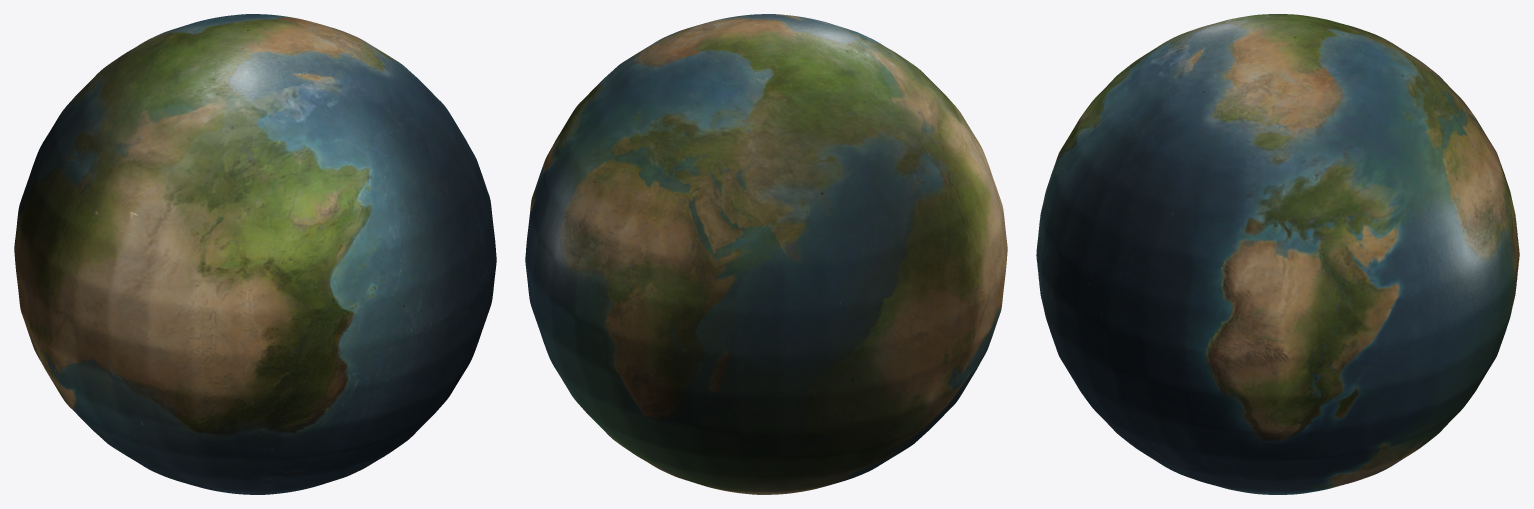
Rendered from yellow-earth.glb.
3 renders of one model, left to right at view 1: azimuth 30°, elevation 25°; view 2: azimuth 150°, elevation 25°; view 3: azimuth 270°, elevation 25°, orthographic.
Bounding box in the file's own units: 2 × 1.99 × 2.
1 material, 1 textured.
